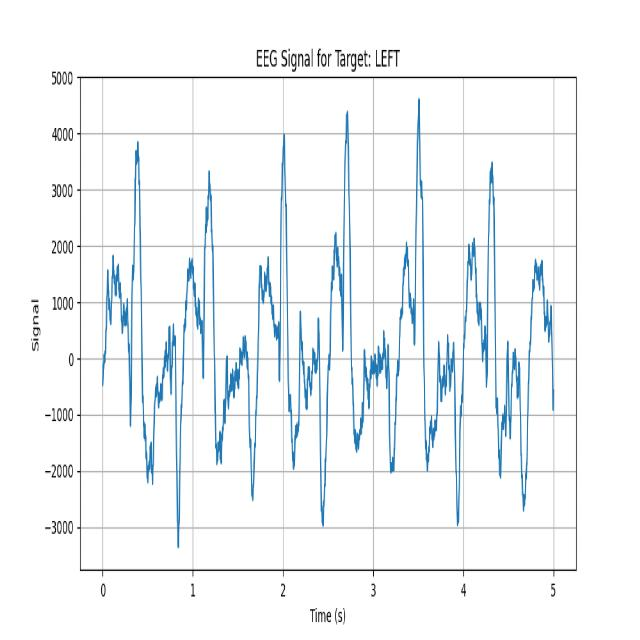LEFT: (453, 99, 513, 535), (103, 133, 163, 537), (316, 108, 372, 539), (389, 99, 442, 534), (182, 132, 237, 532), (252, 131, 302, 532)
